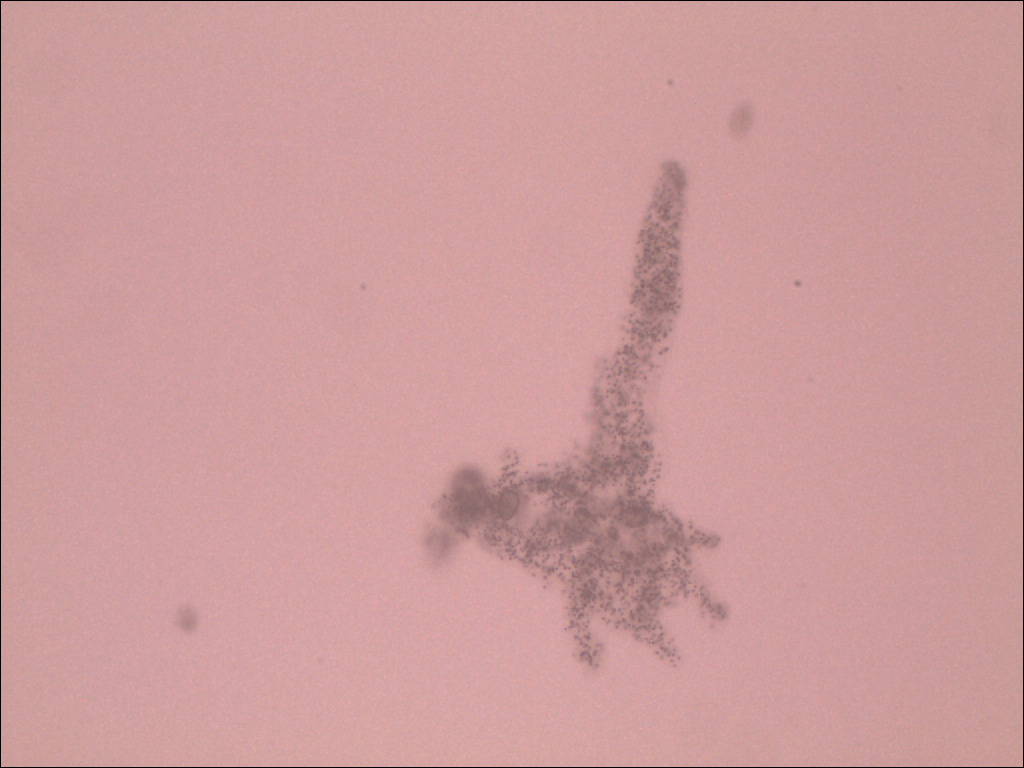amoeba: (417, 152, 748, 683)
